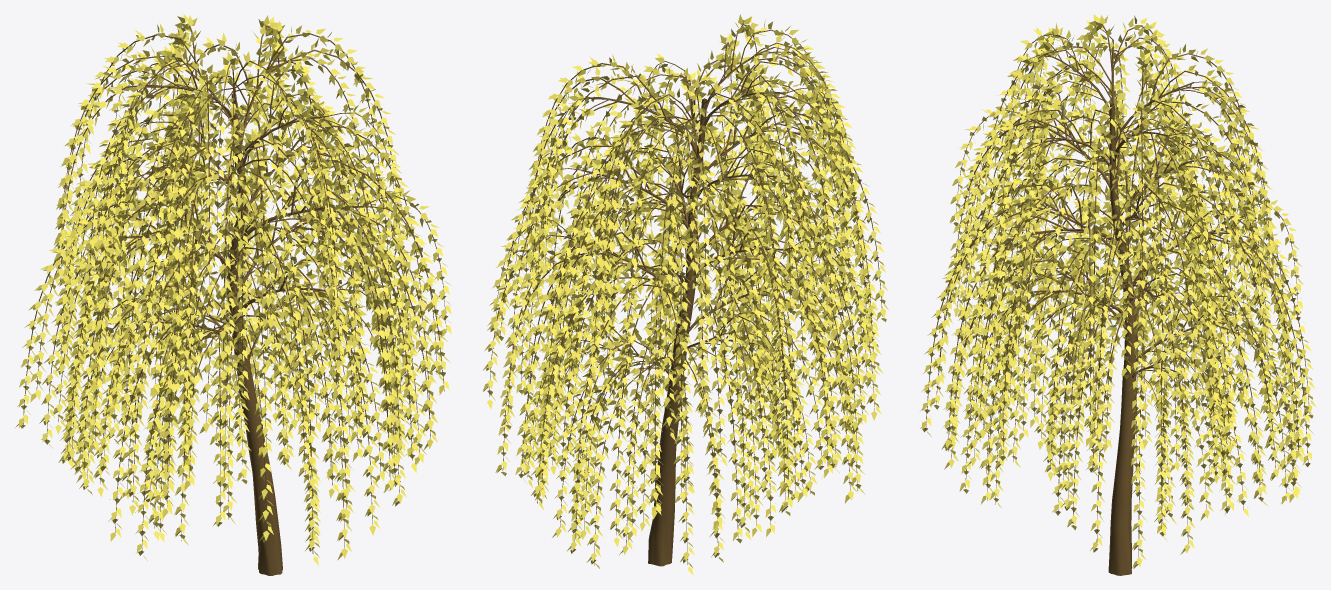
File: Tiny Willow.FBX
3 views of the same model, side by side, from view 1: azimuth 30°, elevation 25°; view 2: azimuth 150°, elevation 25°; view 3: azimuth 270°, elevation 25° (orthographic). The views are drawn at different scales.
Visible parts, largest first — view 1: Foliage001; view 2: Foliage001; view 3: Foliage001.
Part boxes in pixels (x1,y1,x2,y2): Foliage001: [15, 14, 451, 575]; Foliage001: [483, 14, 889, 575]; Foliage001: [920, 14, 1315, 575].
Bounding box in the file's own units: 30.66 × 45.61 × 32.18.
